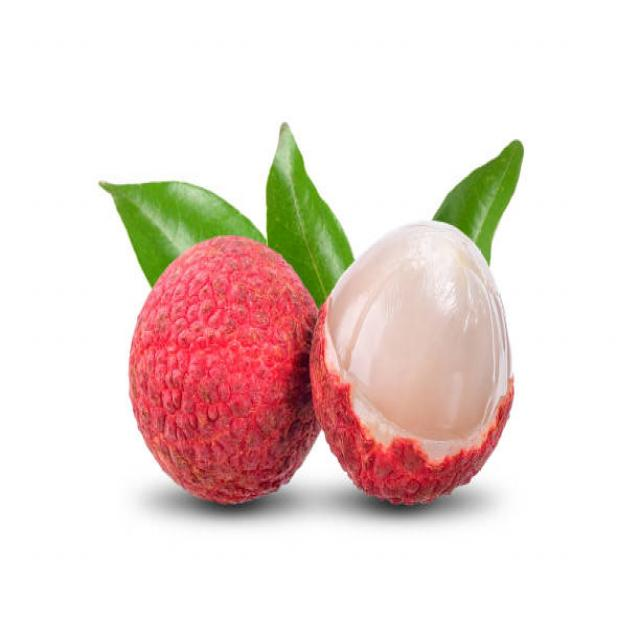lychee: (114, 220, 511, 515)
